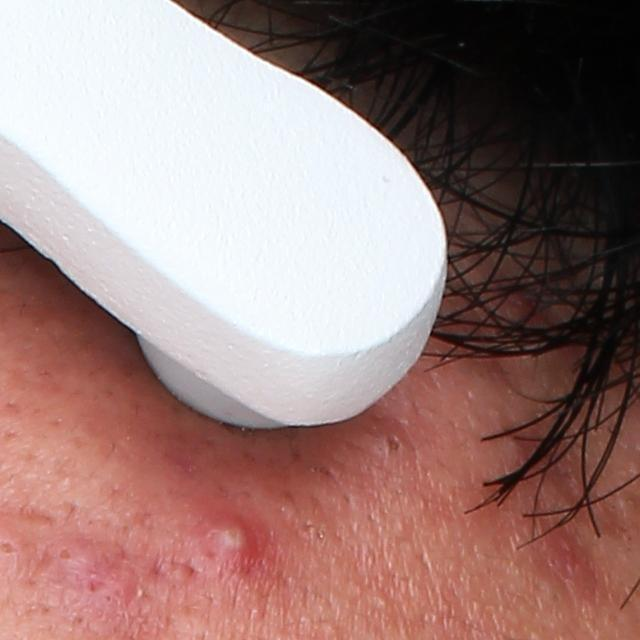comedo: (374, 427, 408, 461)
pustule: (197, 512, 262, 572)
